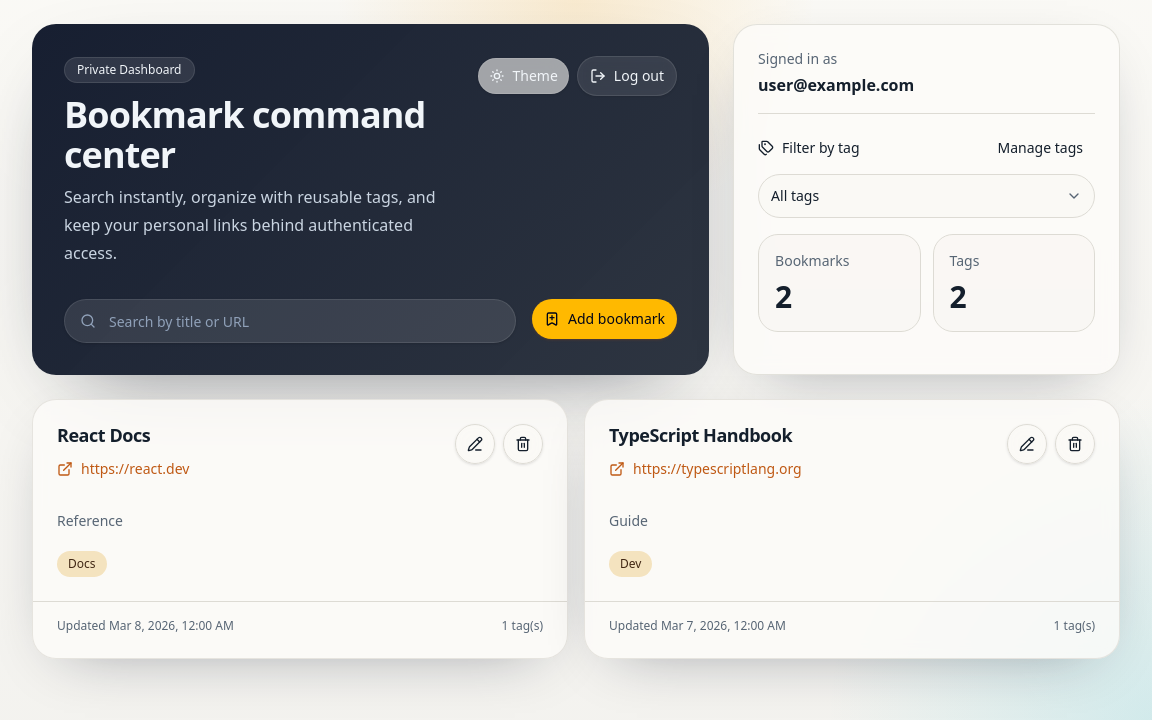
Scenario: DashboardPage › filters bookmarks by search query
The image size is (1152, 720).
Expected: the heading "React Docs" is shown, [57,423,150,447]
Type "typescript" into the field with placeholder "Search by title or URL" at (290, 321), box [64,299,516,343]
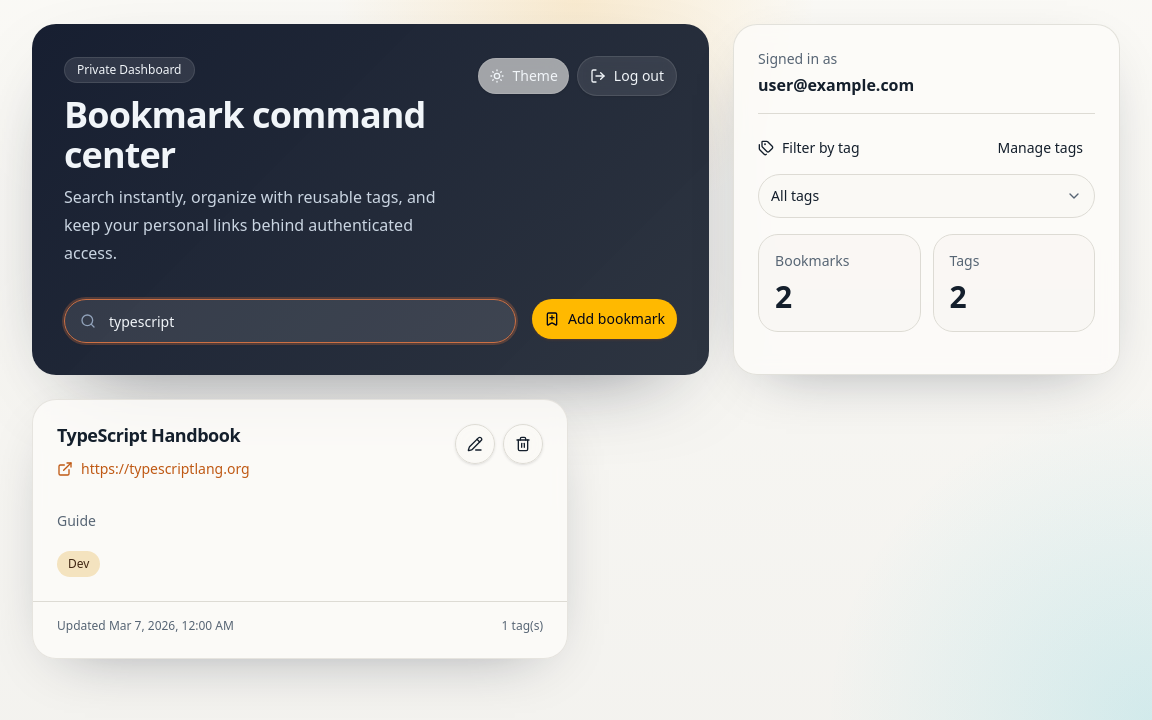
Expected: the heading "TypeScript Handbook" is shown, [57,424,250,446]
Expected: the heading "React Docs" is gone
